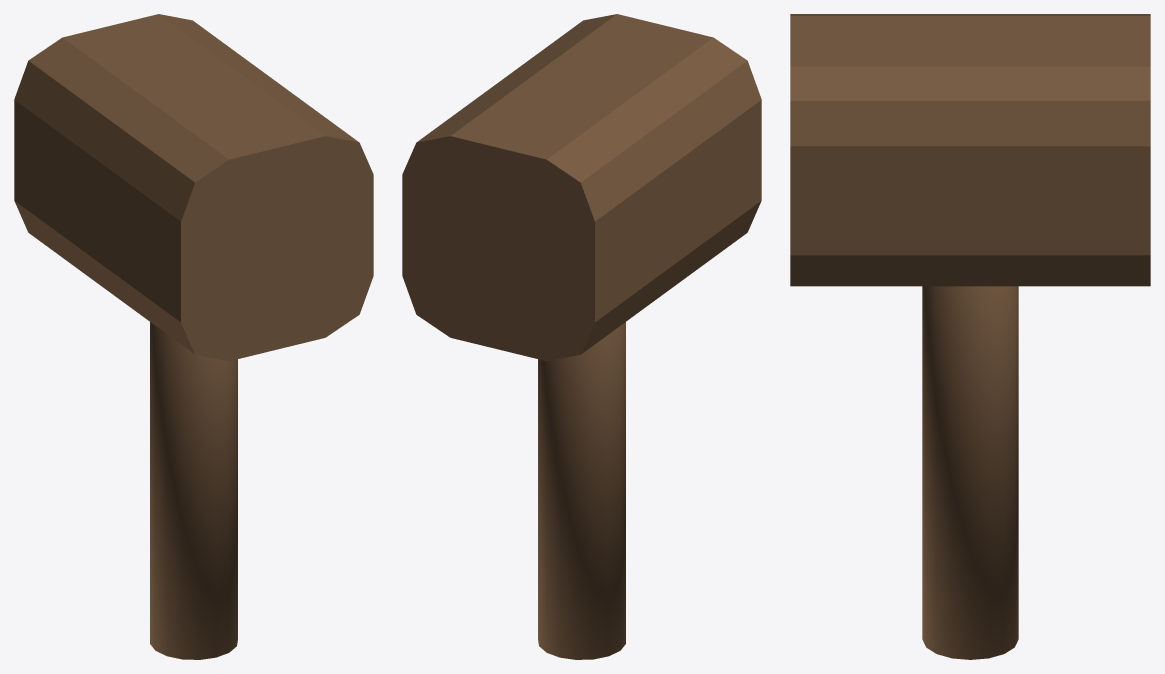
Rendered from hammer.glb.
3 renders of one model, left to right at view 1: azimuth 30°, elevation 25°; view 2: azimuth 150°, elevation 25°; view 3: azimuth 270°, elevation 25°, orthographic. The views are drawn at different scales.
Visible parts, largest first — view 1: Cube, Cylinder; view 2: Cube, Cylinder; view 3: Cube, Cylinder.
Boxes of the visible parts, box(x1,y1,x2,y2) form: Cube: box(14, 14, 373, 361); Cylinder: box(150, 322, 237, 659); Cube: box(402, 14, 761, 361); Cylinder: box(538, 322, 625, 659); Cube: box(790, 14, 1150, 286); Cylinder: box(922, 286, 1018, 659).
Size of the model in its own units: 0.2 by 0.55 by 0.3.
